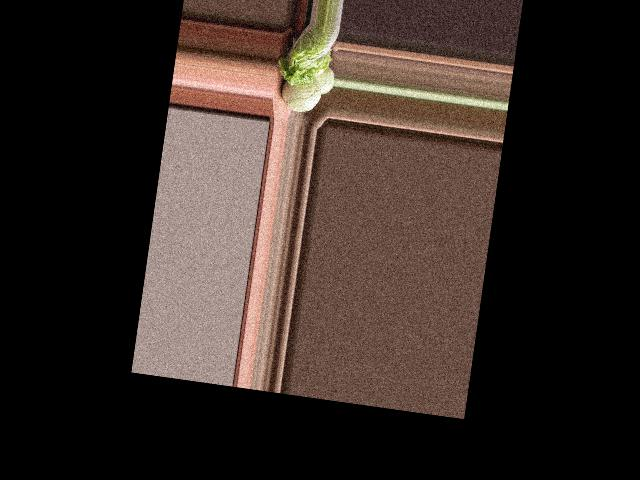lettuce: (274, 20, 337, 90)
